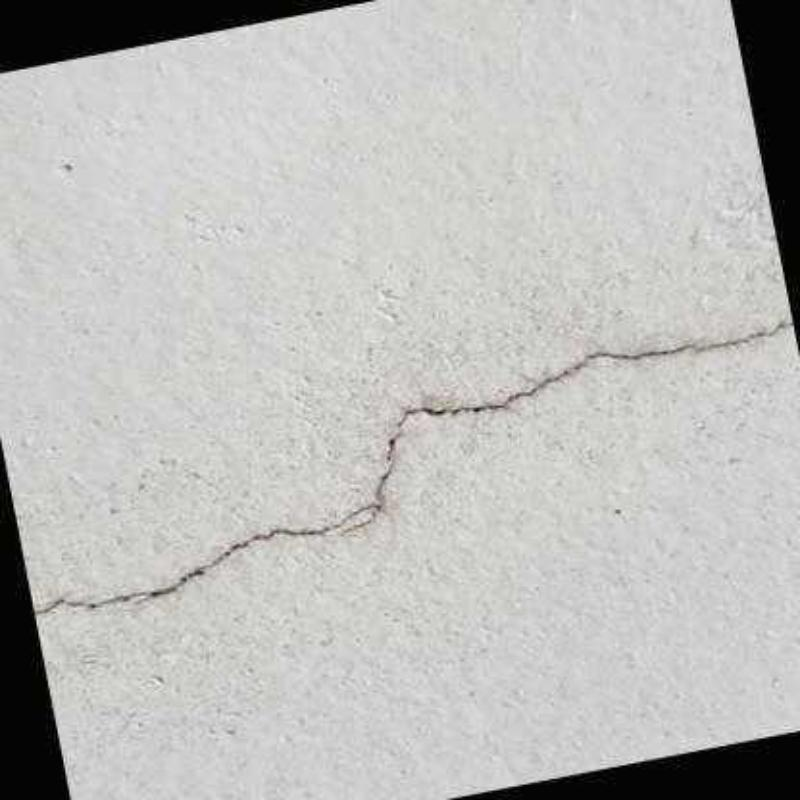pothole: (34, 321, 794, 615), (338, 512, 379, 537)
